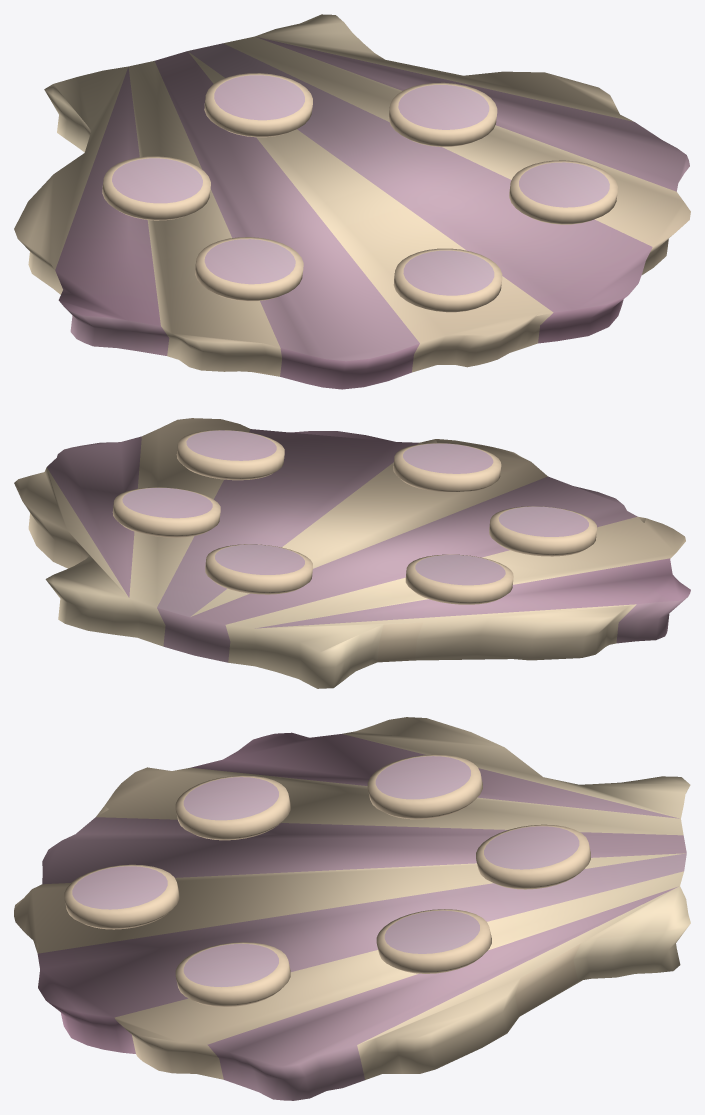
The model's file is sm_nido.fbx.
3 views of the same model, one above another, from view 1: azimuth 30°, elevation 25°; view 2: azimuth 150°, elevation 25°; view 3: azimuth 270°, elevation 25° (orthographic). The views are drawn at different scales.
Visible parts, largest first — view 1: sm_nido; view 2: sm_nido; view 3: sm_nido.
Boxes of the visible parts, x1,y1,x2,y2 form: sm_nido: [14, 14, 690, 389]; sm_nido: [14, 418, 690, 688]; sm_nido: [14, 717, 690, 1100].
Bounding box in the file's own units: 57.93 × 10 × 50.
Materials: 1 (1 with a texture image).
